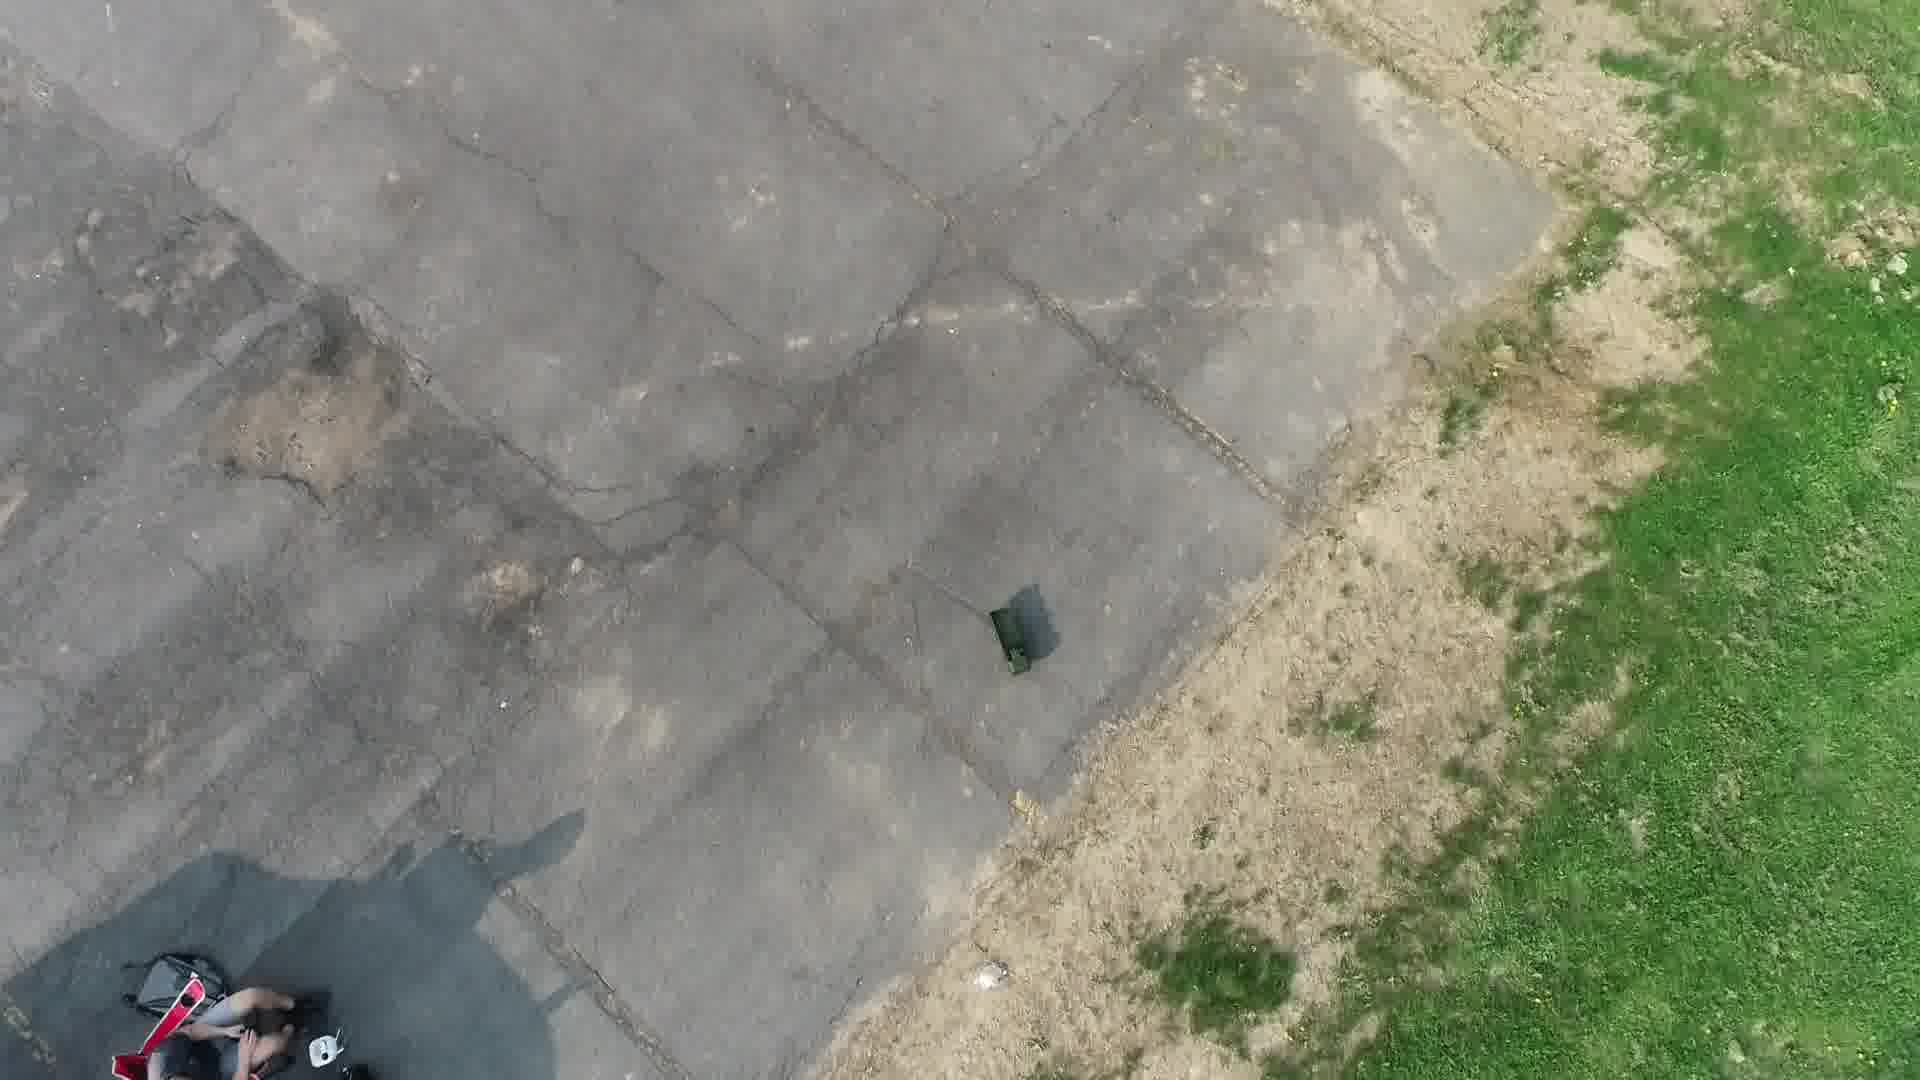transporter9: (986, 603, 1040, 679)
